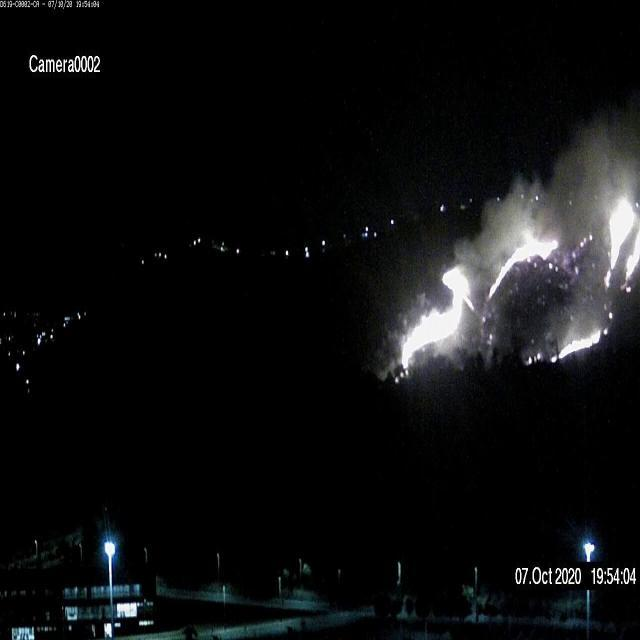Fire: (397, 261, 469, 369), (486, 232, 556, 297), (604, 192, 640, 292), (540, 322, 606, 362)
Smoke: (416, 76, 634, 352)
